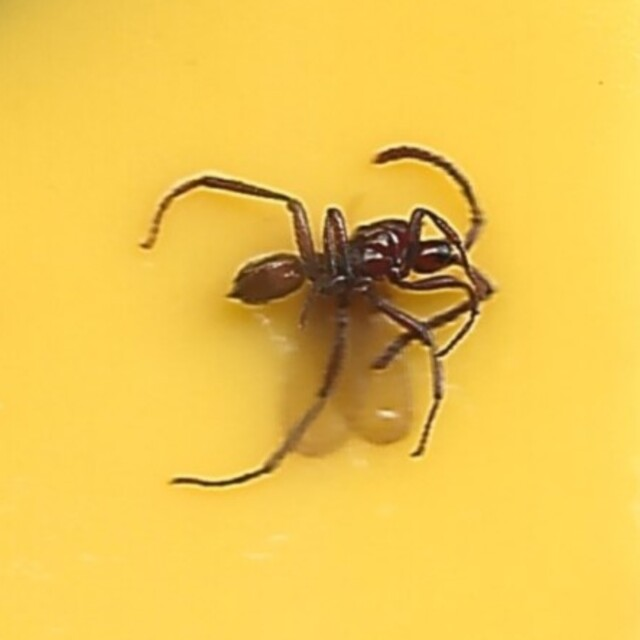Hymenoptera: (144, 143, 496, 497)
